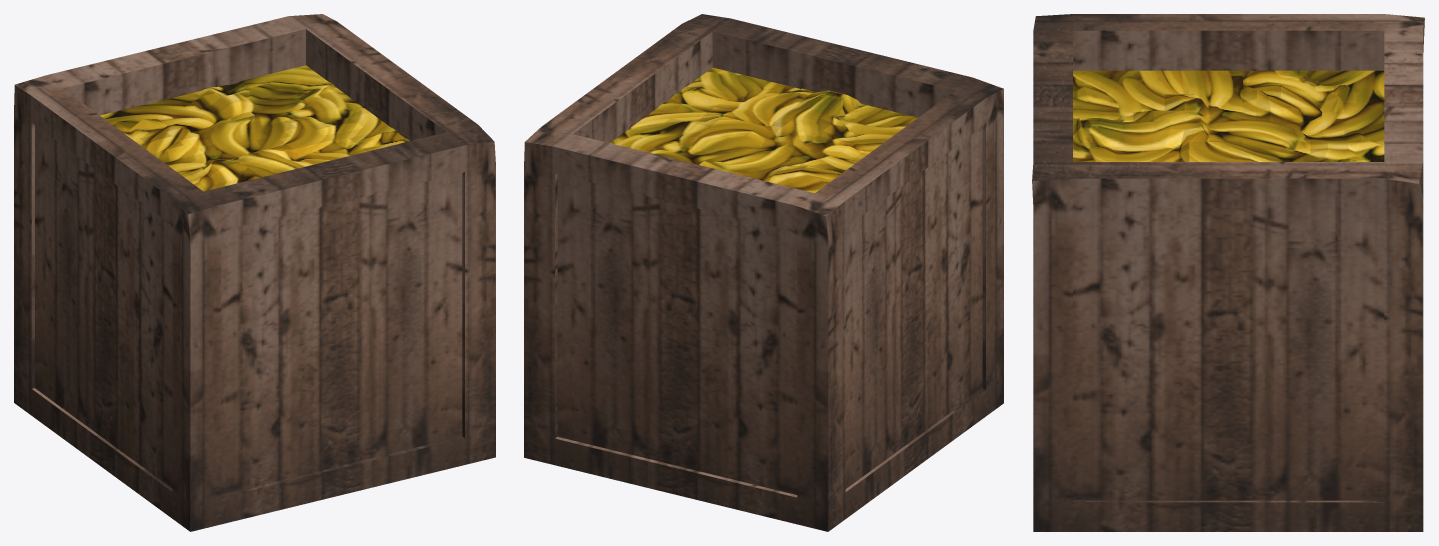
File: bananaCrate.glb
3 renders of one model, left to right at view 1: azimuth 30°, elevation 25°; view 2: azimuth 150°, elevation 25°; view 3: azimuth 270°, elevation 25°, orthographic. The views are drawn at different scales.
Parts seen in each view (by area): view 1: Object_3, Object_2; view 2: Object_3, Object_2; view 3: Object_3, Object_2.
Boxes of the visible parts, box(x1,y1,x2,y2) form: Object_3: box(14, 14, 495, 531); Object_2: box(100, 65, 409, 191); Object_3: box(524, 14, 1003, 531); Object_2: box(609, 67, 918, 193); Object_3: box(1032, 14, 1424, 531); Object_2: box(1073, 70, 1384, 161).
Size of the model in its own units: 7.59 by 7.53 by 7.59.
Materials: 2 (2 with a texture image).
